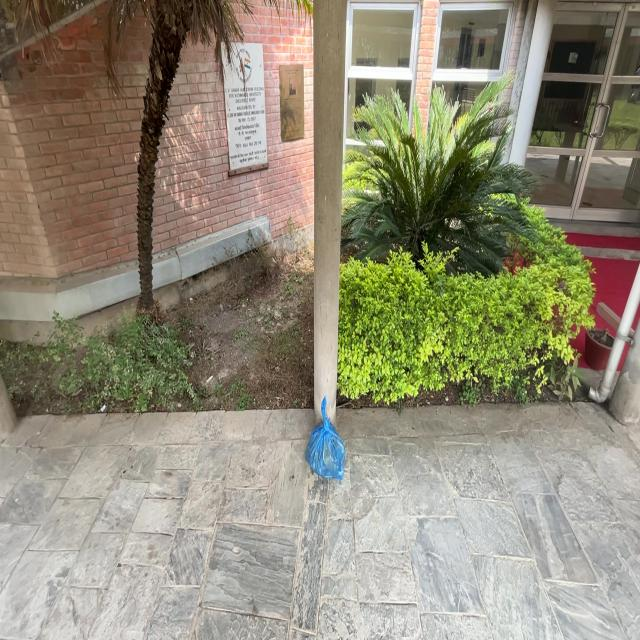garbage: (296, 394, 358, 500)
